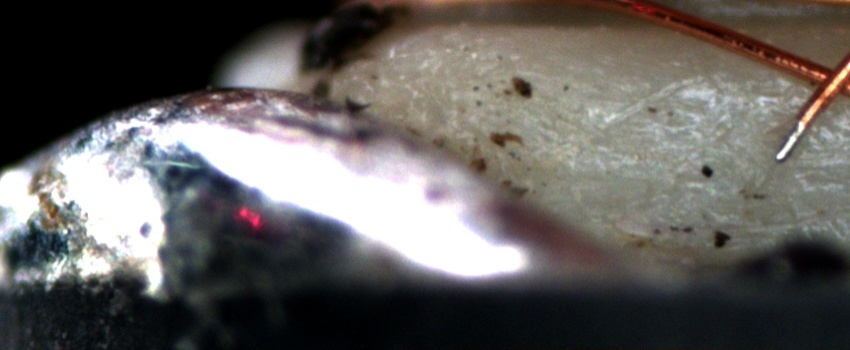CL: (794, 49, 849, 120)
DL: (628, 61, 850, 125), (645, 168, 850, 208)
TS: (774, 118, 806, 162)
